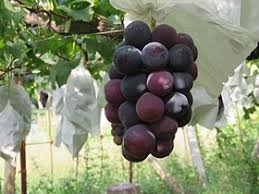Black grapes: (101, 17, 200, 163)
